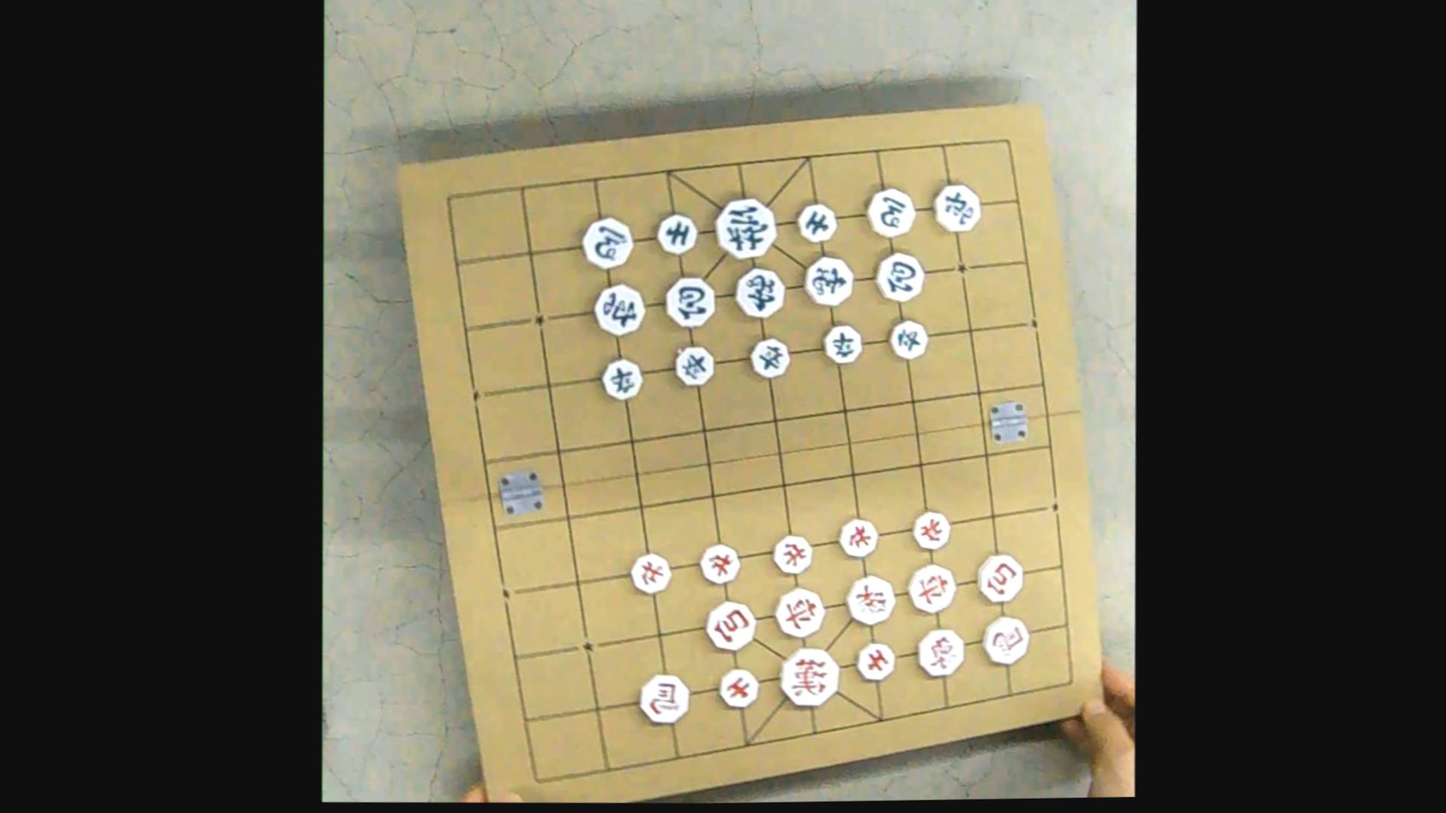cha_green: (593, 284, 645, 334), (932, 184, 981, 233)
cha_red: (773, 588, 824, 638), (908, 564, 955, 613)
jol_green: (600, 359, 642, 400), (749, 338, 789, 378), (673, 346, 714, 385), (822, 325, 862, 364), (889, 319, 928, 359)
jol_red: (773, 534, 813, 575), (699, 544, 740, 583), (630, 553, 670, 592), (838, 519, 877, 557), (912, 510, 950, 548)
ma_green: (581, 217, 632, 267), (865, 187, 914, 236)
ma_red: (638, 674, 688, 725), (981, 617, 1029, 665)
po_green: (664, 277, 715, 327), (874, 252, 923, 300)
po_red: (704, 601, 755, 650), (976, 554, 1022, 601)
sa_green: (655, 215, 697, 254), (796, 203, 837, 242)
sa_red: (718, 668, 758, 708), (855, 643, 895, 681)
sang_green: (733, 267, 784, 317), (803, 256, 853, 305)
sang_red: (845, 576, 895, 624), (917, 629, 963, 676)
wang_green: (715, 198, 776, 259)
wang_red: (779, 647, 839, 707)
